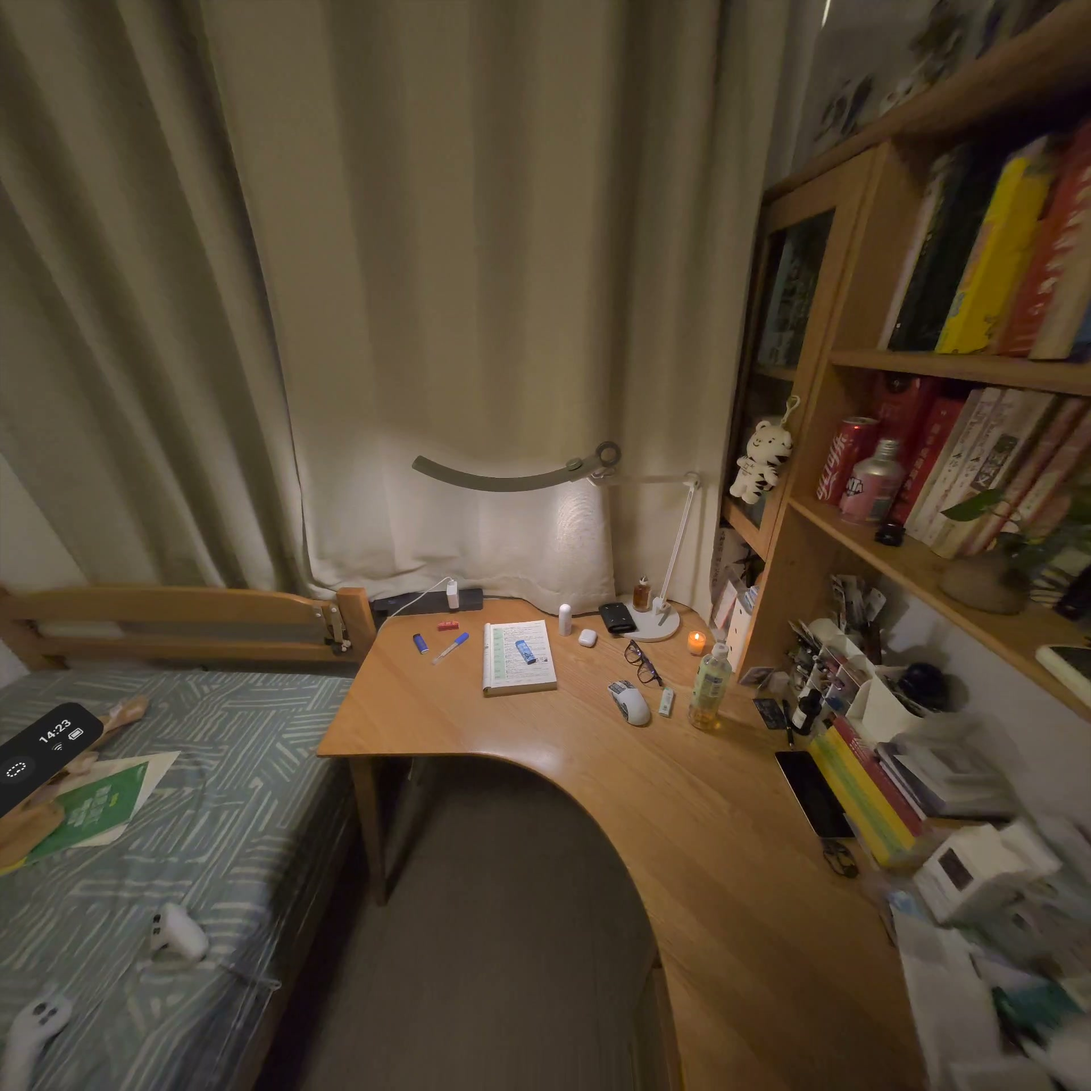lighter: (515, 639, 537, 665)
